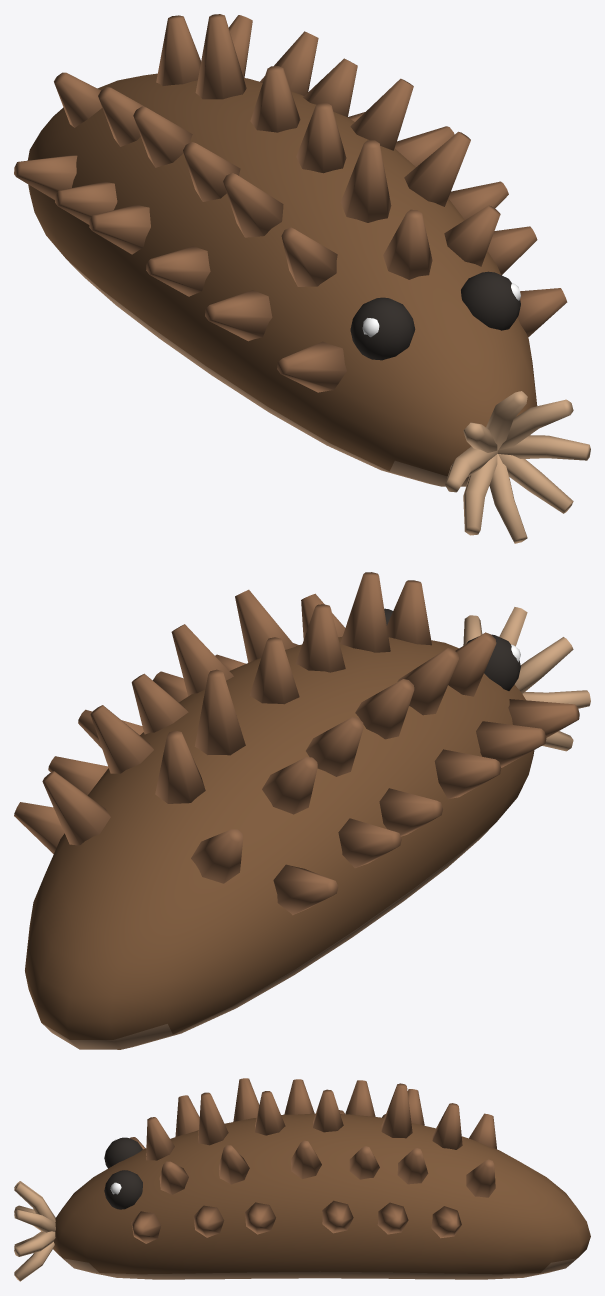
Rendered from sea-sea-cucumber.glb.
The picture shows the model from 3 angles, top to bottom: view 1: azimuth 30°, elevation 25°; view 2: azimuth 150°, elevation 25°; view 3: azimuth 270°, elevation 25°; orthographic projection. The views are drawn at different scales.
Parts seen in each view (by area): view 1: cucumber; view 2: cucumber; view 3: cucumber.
Part boxes in pixels (x1,y1,x2,y2): cucumber: (14,14,590,543); cucumber: (14,572,590,1049); cucumber: (14,1078,590,1281).
Size of the model in its own units: 0.1464 by 0.1185 by 0.3194.
